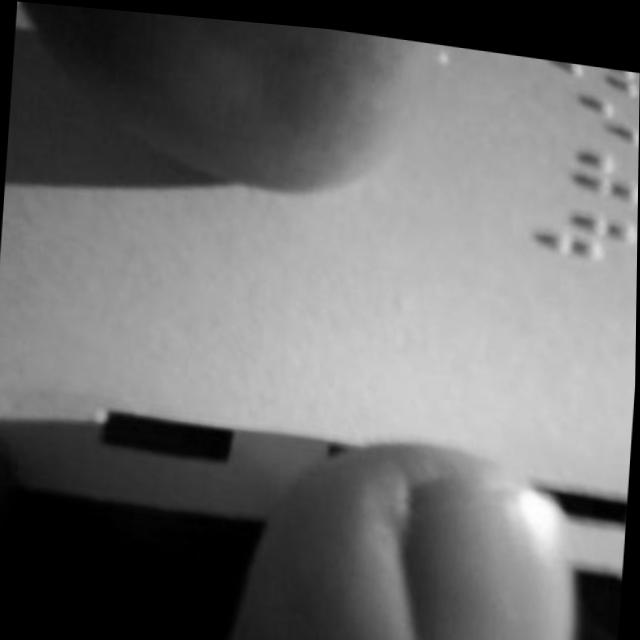braiile: (529, 126, 639, 196), (528, 73, 640, 138), (523, 197, 638, 259)
